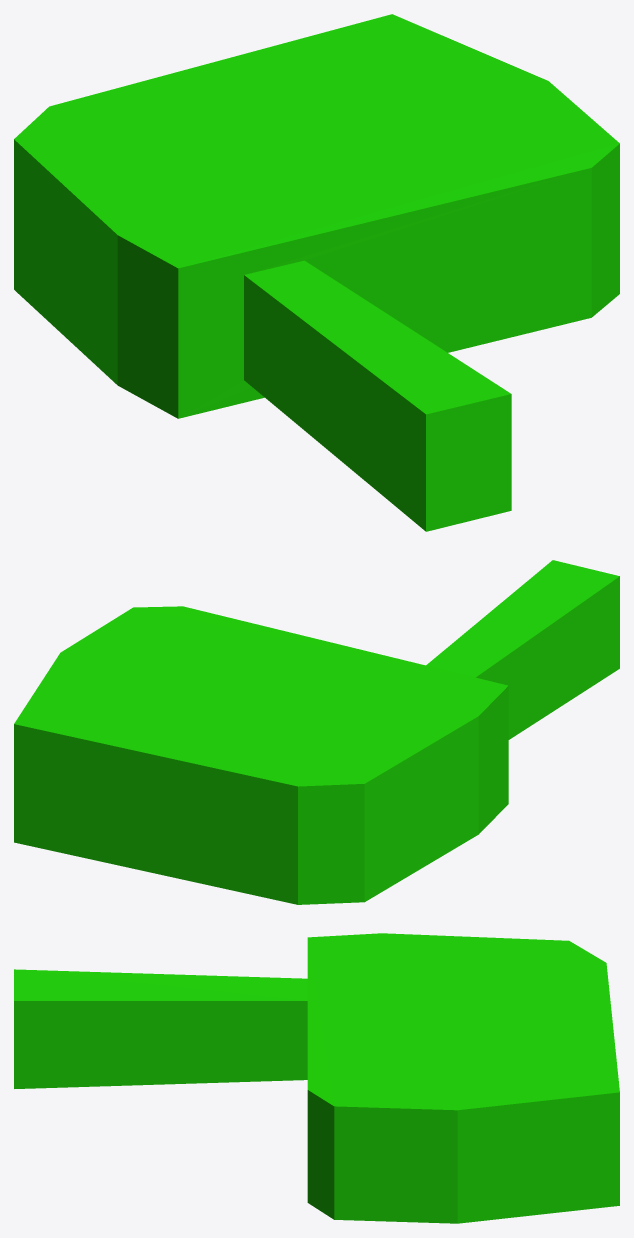
Rendered from SM_Mixer_01_Collider.fbx.
3 renders of one model, top to bottom at view 1: azimuth 30°, elevation 25°; view 2: azimuth 150°, elevation 25°; view 3: azimuth 270°, elevation 25°, orthographic. The views are drawn at different scales.
Visible parts, largest first — view 1: SM_Mixer_01_Collider; view 2: SM_Mixer_01_Collider; view 3: SM_Mixer_01_Collider.
Boxes of the visible parts, left/top/right/bottom form: SM_Mixer_01_Collider: left=14, top=14, right=619, bottom=531; SM_Mixer_01_Collider: left=14, top=560, right=619, bottom=904; SM_Mixer_01_Collider: left=14, top=933, right=619, bottom=1223.
Bounding box in the file's own units: 27.61 × 8.25 × 39.94.
